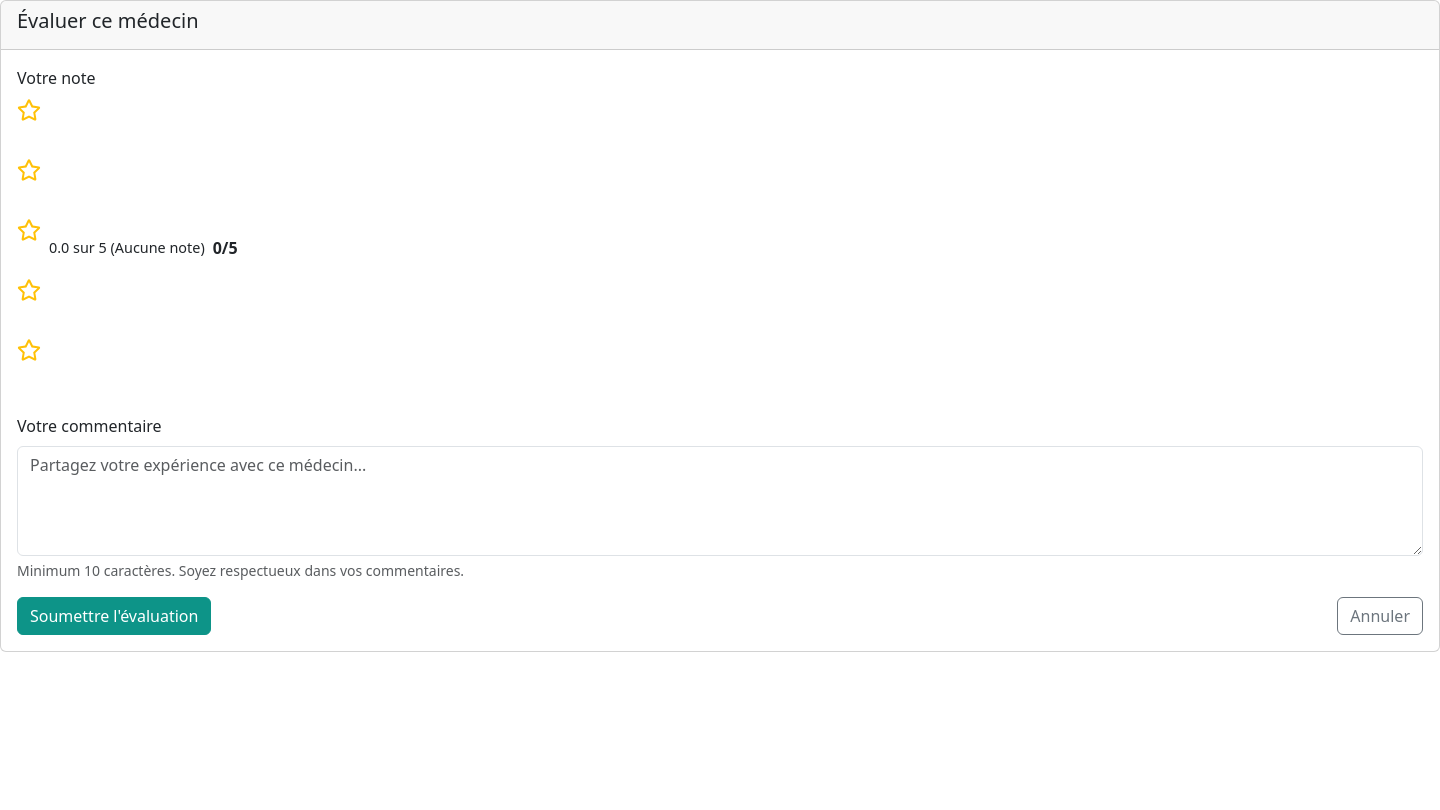
Test: DoctorRating › shows error when submitting without rating
Click the button "Soumettre l'évaluation" at [114, 616], box [17,597,211,635]
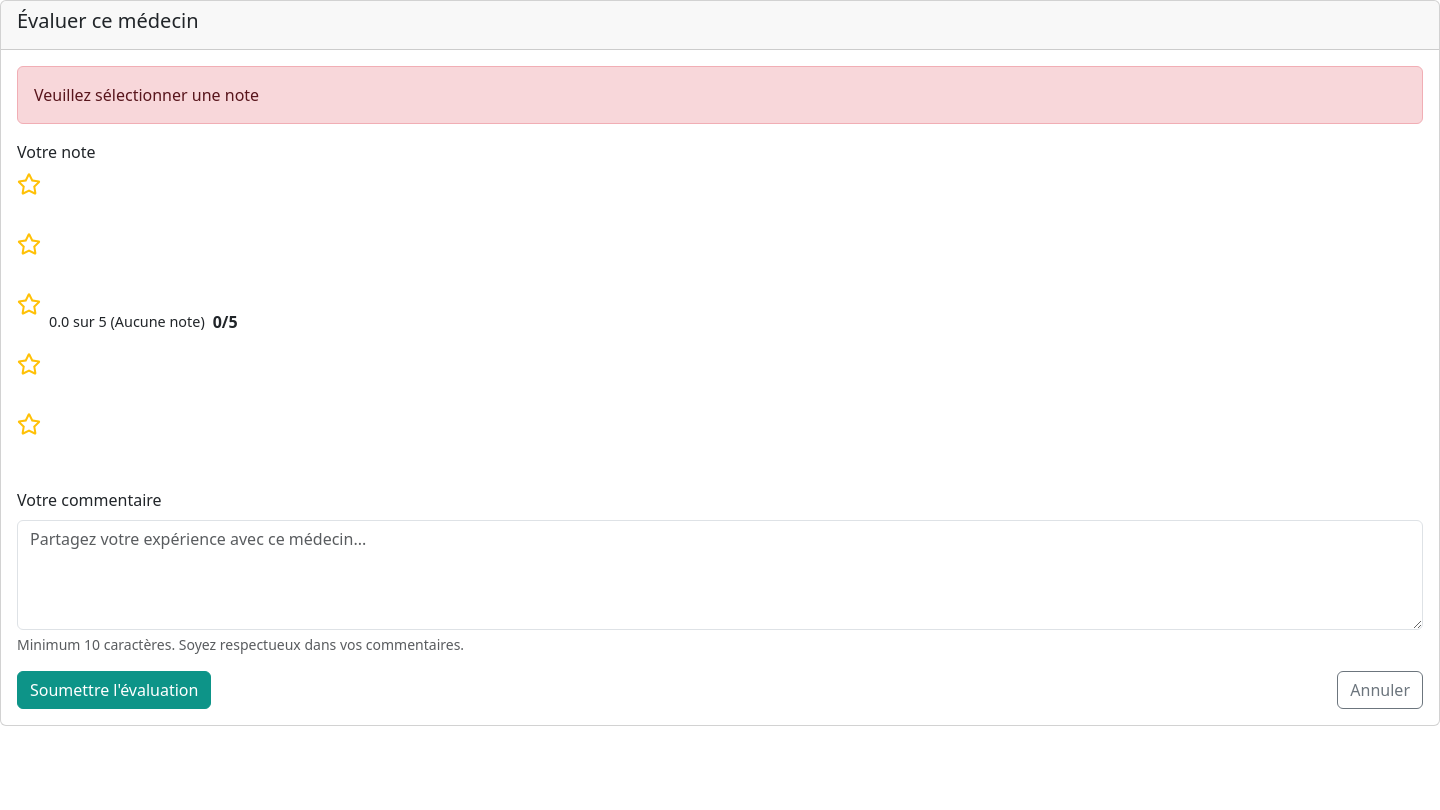
Expected: the text "Veuillez sélectionner une note" is shown, [17,66,1423,124]
